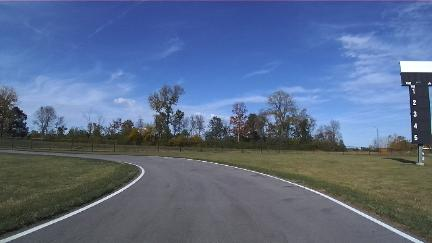Grass: (93, 153, 431, 241), (0, 153, 139, 234)
Lane: (12, 153, 411, 242)
